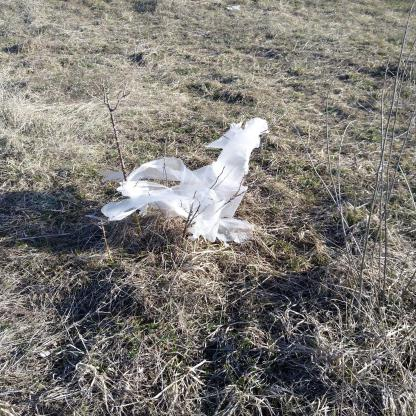plastik: (100, 117, 270, 243)
